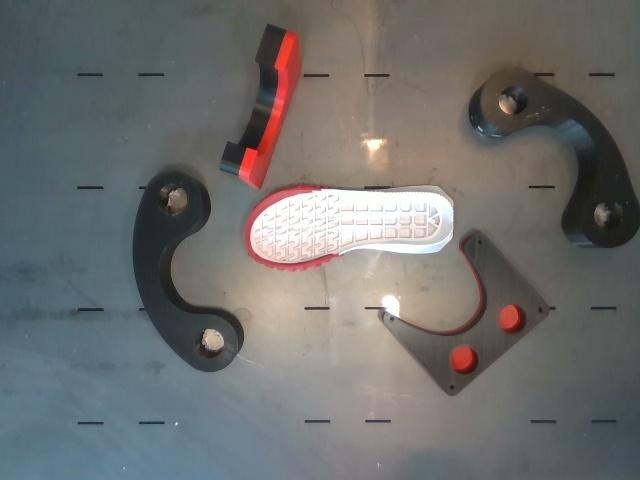shoes: (246, 188, 453, 266)
